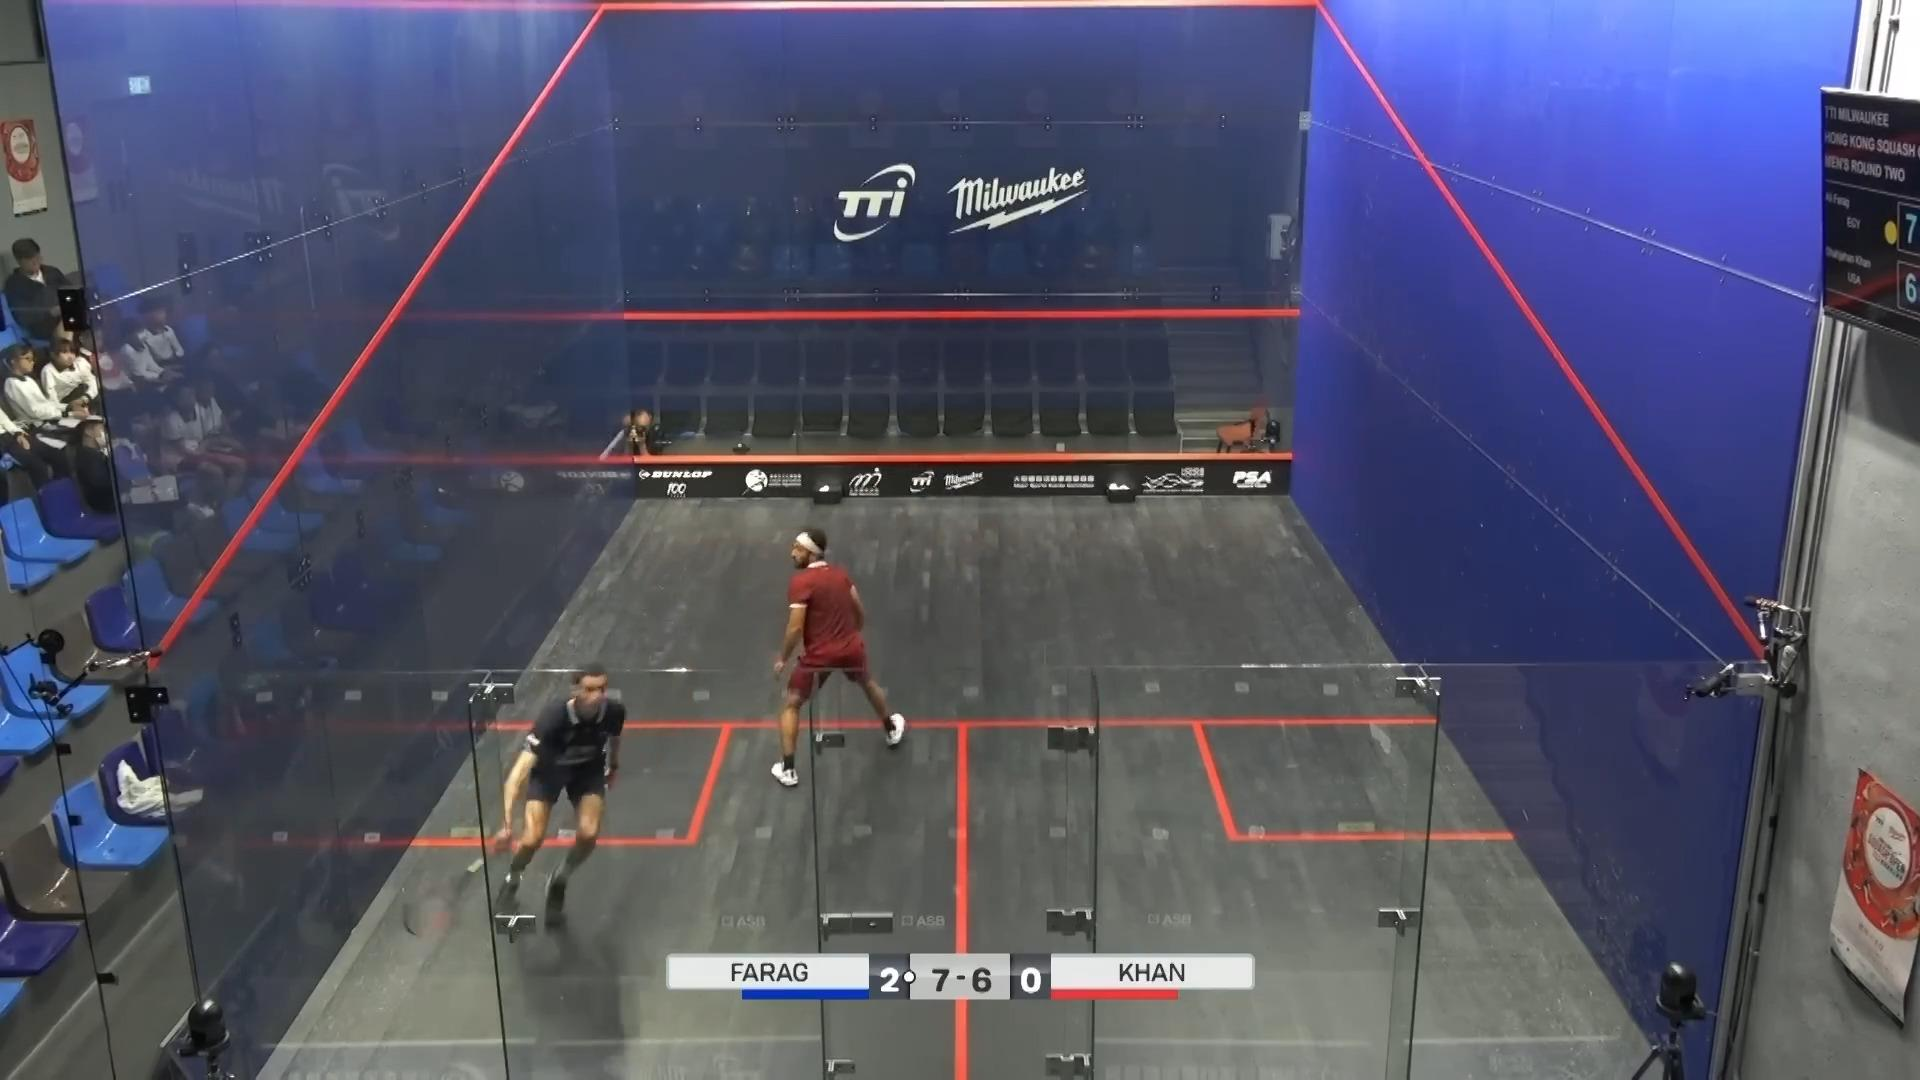Racket: (400, 852, 493, 948)
